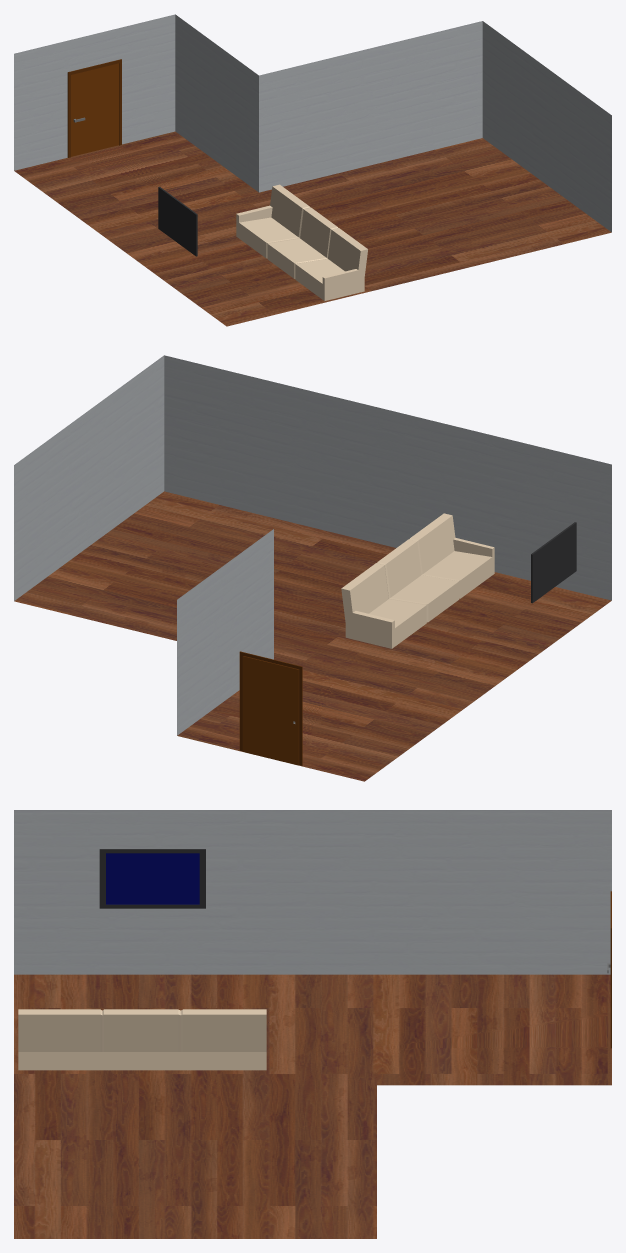
The model's file is room.glb.
3 renders of one model, top to bottom at view 1: azimuth 30°, elevation 25°; view 2: azimuth 150°, elevation 25°; view 3: azimuth 270°, elevation 25°, orthographic. The views are drawn at different scales.
Visible parts, largest first — view 1: room, Cube, Cube.001; view 2: room, Cube, Cube.001; view 3: room, Cube, Cube.001.
Boxes of the visible parts, box(x1,y1,x2,y2) form: room: box(14, 14, 611, 326); Cube: box(236, 184, 367, 300); Cube.001: box(158, 186, 197, 256); room: box(14, 355, 611, 781); Cube: box(341, 513, 494, 648); Cube.001: box(531, 522, 576, 603); room: box(14, 810, 611, 1238); Cube: box(18, 1009, 266, 1070); Cube.001: box(99, 849, 205, 908).
Size of the model in its own units: 103 by 30.1 by 98.81.
Materials: 9 (2 with a texture image).
